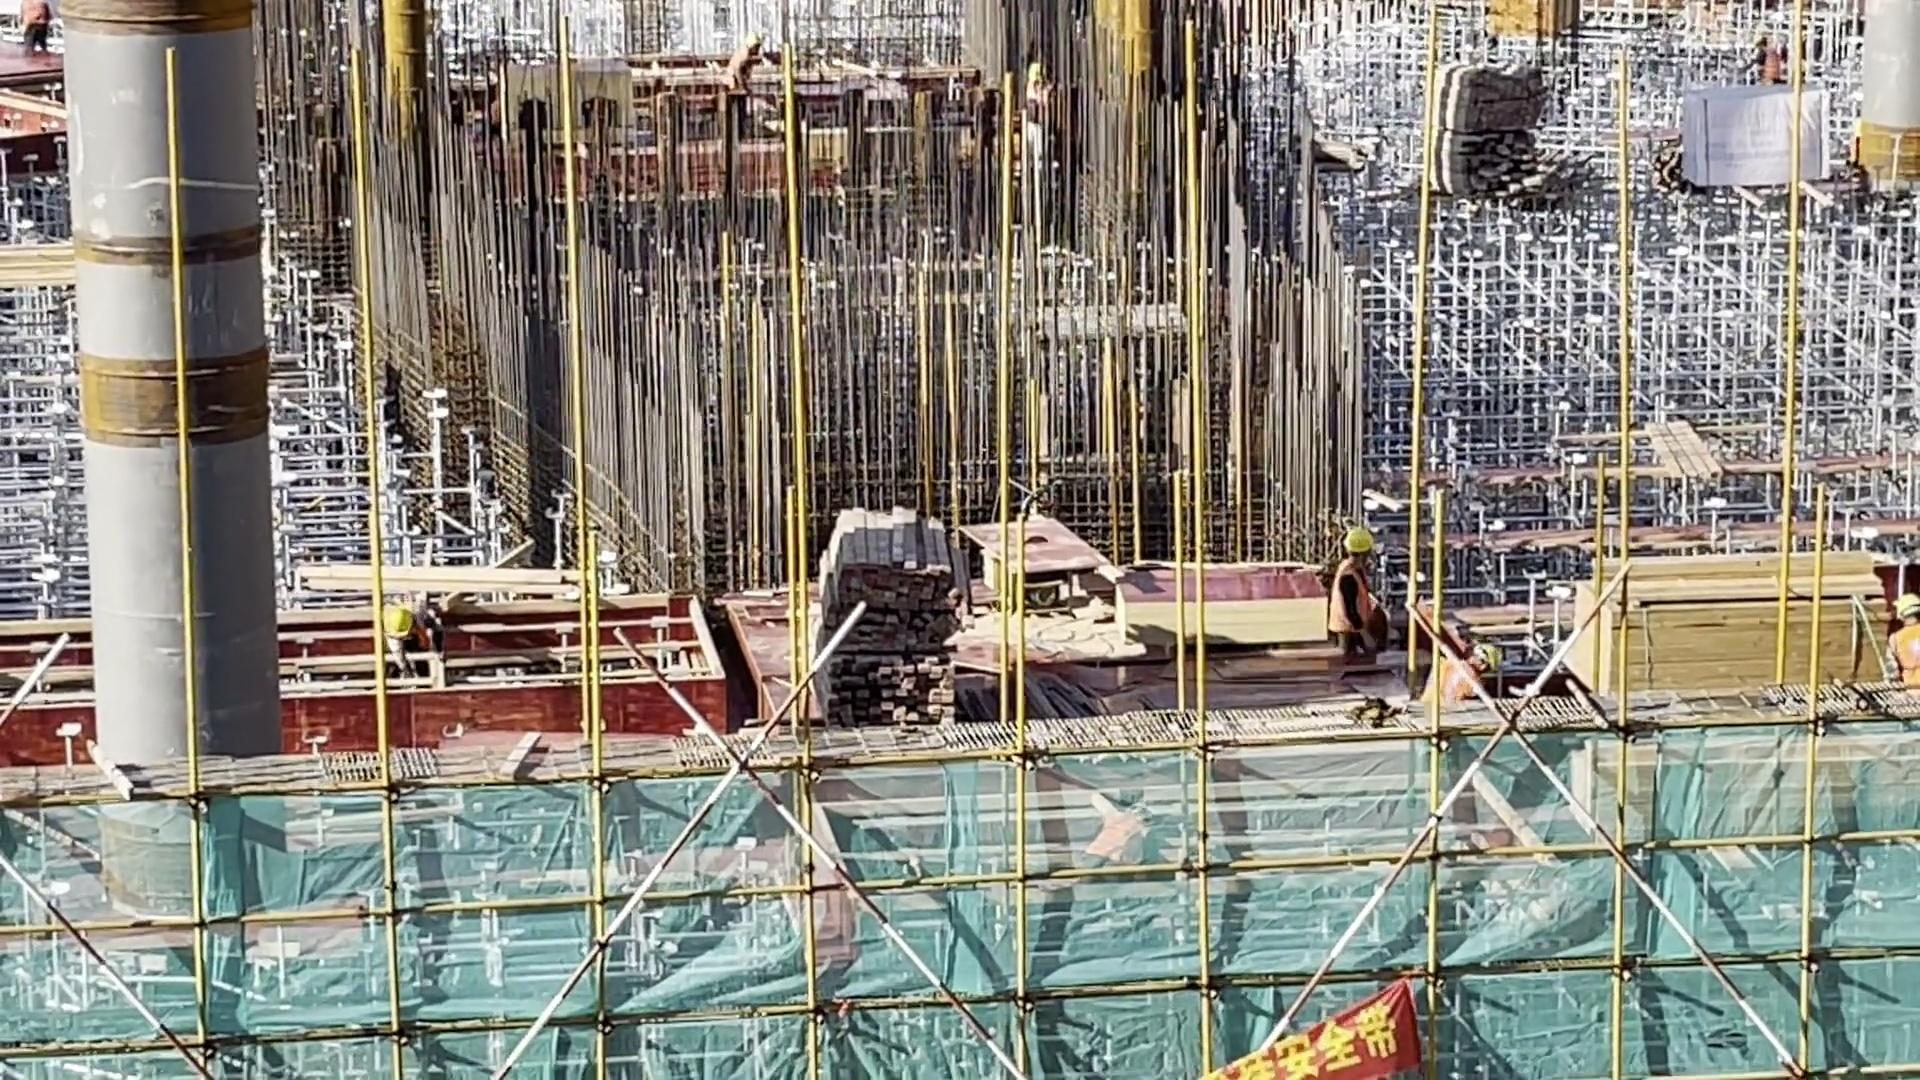helmet: (378, 601, 419, 641), (1336, 522, 1375, 558), (1893, 586, 1920, 622)
person: (1297, 516, 1408, 691), (371, 598, 463, 685), (1866, 576, 1920, 673)
slogan: (1141, 943, 1462, 1080)
vest: (1325, 550, 1374, 642), (1886, 616, 1920, 668)
wood: (1566, 534, 1903, 715), (810, 472, 963, 730)
